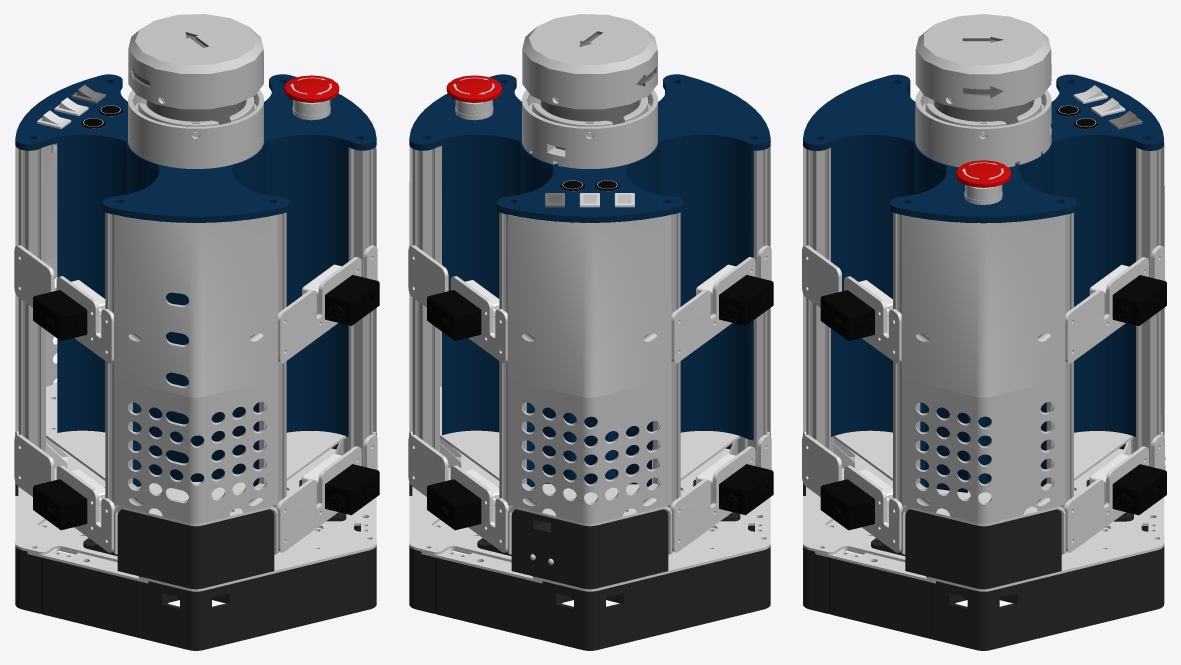
File: Robot_Large.fbx
The picture shows the model from 3 angles, left to right: view 1: azimuth 30°, elevation 25°; view 2: azimuth 150°, elevation 25°; view 3: azimuth 270°, elevation 25°; orthographic projection.
Parts seen in each view (by area): view 1: Robot_Large.117, Robot_Large.003, Robot_Large.020, Robot_Large.043, Robot_Large.060, Robot_Large.Emergency; view 2: Robot_Large.117, Robot_Large.043, Robot_Large.060, Robot_Large.083, Robot_Large.100, Robot_Large.Emergency; view 3: Robot_Large.117, Robot_Large.020, Robot_Large.100, Robot_Large.083, Robot_Large.003, Robot_Large.Emergency.
Boxes of the visible parts, left/top/right/bottom form: Robot_Large.117: left=14, top=14, right=377, bottom=650; Robot_Large.003: left=325, top=464, right=379, bottom=515; Robot_Large.020: left=325, top=275, right=379, bottom=325; Robot_Large.043: left=33, top=479, right=87, bottom=530; Robot_Large.060: left=33, top=290, right=87, bottom=340; Robot_Large.Emergency: left=284, top=75, right=339, bottom=120; Robot_Large.117: left=408, top=14, right=771, bottom=650; Robot_Large.043: left=719, top=464, right=773, bottom=515; Robot_Large.060: left=719, top=275, right=773, bottom=325; Robot_Large.083: left=427, top=479, right=481, bottom=530; Robot_Large.100: left=427, top=290, right=481, bottom=340; Robot_Large.Emergency: left=446, top=75, right=501, bottom=120; Robot_Large.117: left=802, top=14, right=1165, bottom=650; Robot_Large.020: left=820, top=290, right=874, bottom=341; Robot_Large.100: left=1112, top=275, right=1166, bottom=325; Robot_Large.083: left=1112, top=464, right=1166, bottom=515; Robot_Large.003: left=820, top=479, right=874, bottom=530; Robot_Large.Emergency: left=956, top=160, right=1011, bottom=204.
Bounding box in the file's own units: 29.71 × 42.1 × 26.26.
